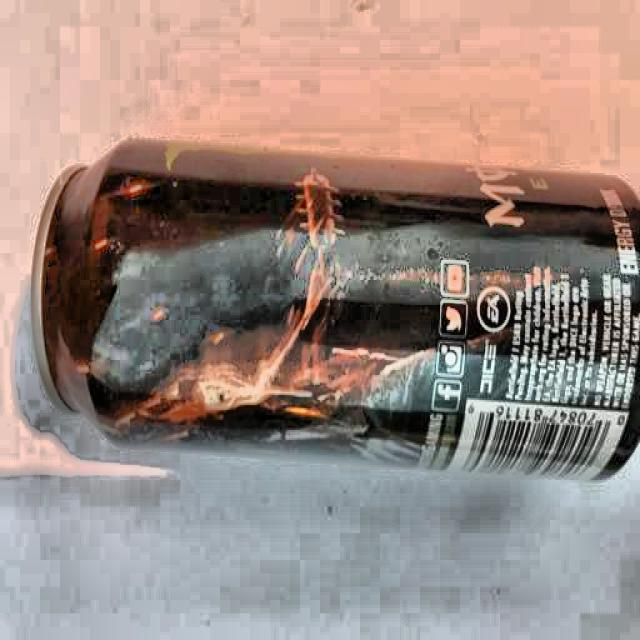metal: (27, 136, 640, 485)
